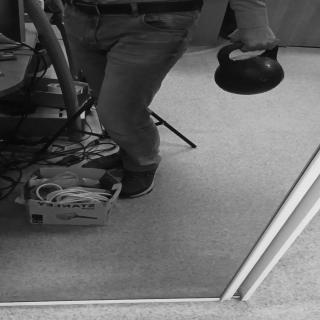kettlebell: (215, 39, 288, 97)
